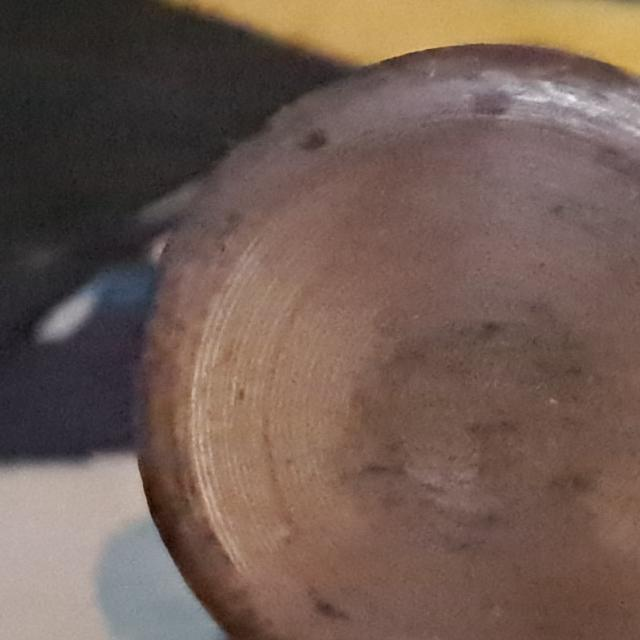planson: (134, 39, 640, 640)
